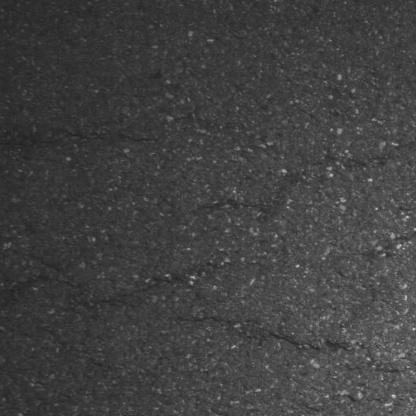Cracks: (34, 272, 192, 317), (0, 233, 80, 320), (263, 328, 357, 357), (175, 312, 260, 328)
